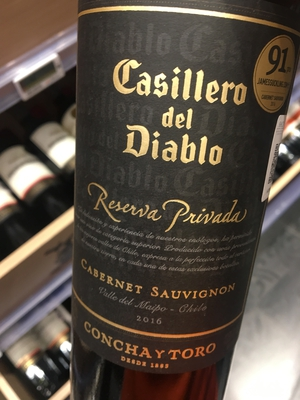casillero del diablo reserva privada cabernet sauvignon: (59, 4, 290, 392)
